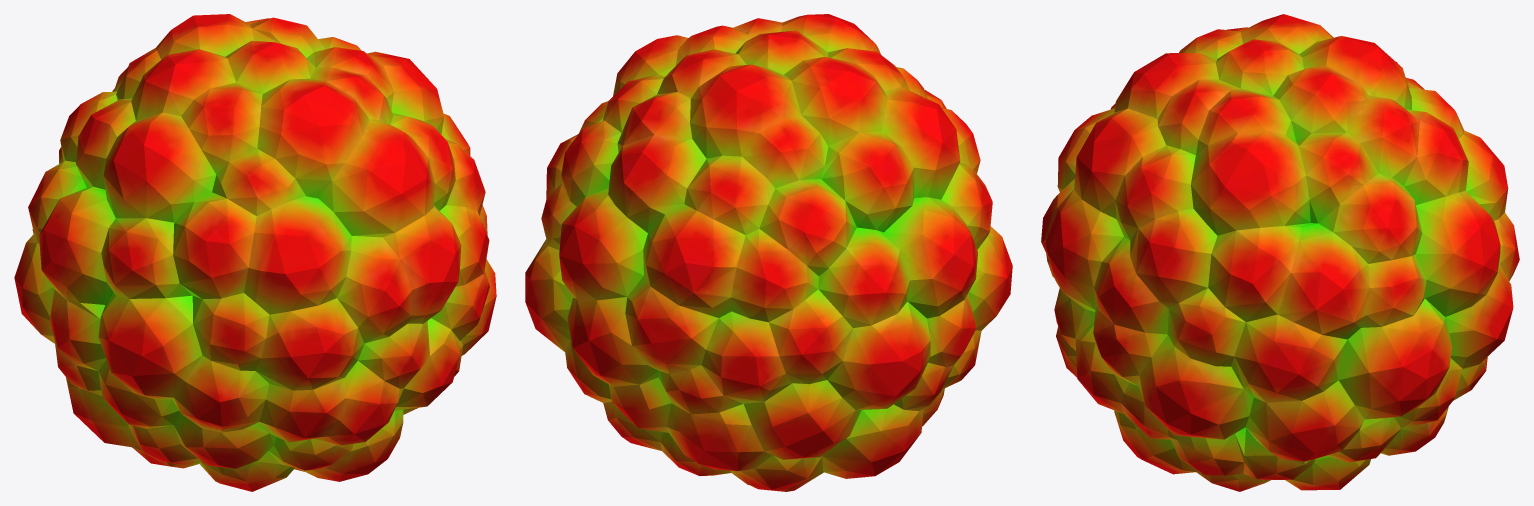
File: smokeball.glb
3 views of the same model, side by side, from view 1: azimuth 30°, elevation 25°; view 2: azimuth 150°, elevation 25°; view 3: azimuth 270°, elevation 25° (orthographic).
Parts seen in each view (by area): view 1: smoke; view 2: smoke; view 3: smoke.
Boxes of the visible parts, <box> form: smoke: <box>14,14,496,491</box>; smoke: <box>525,14,1012,491</box>; smoke: <box>1041,14,1519,491</box>.
Size of the model in its own units: 1.88 by 1.83 by 1.88.
Materials: 1 (1 with a texture image).
